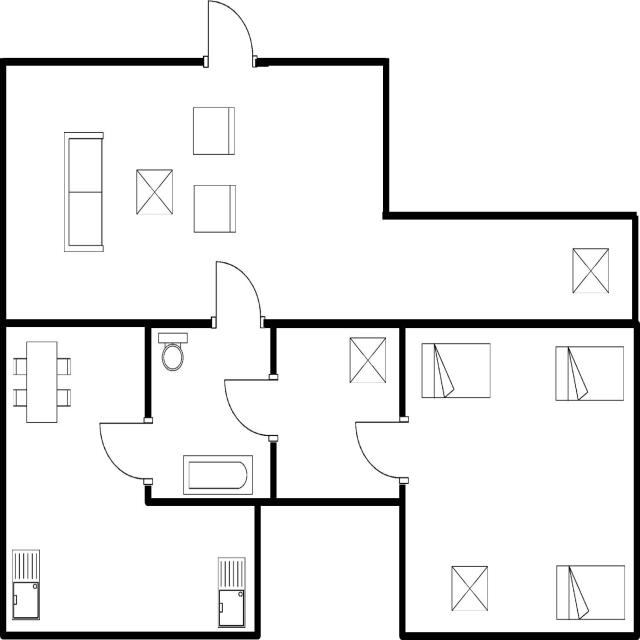bed: (416, 337, 496, 406), (552, 556, 629, 624), (550, 340, 628, 406)
coffee_table: (344, 332, 390, 390), (447, 560, 492, 617), (568, 243, 614, 298), (132, 164, 177, 220)
dining_table: (11, 337, 74, 427)
large_sink: (155, 329, 193, 376)
large_sofa: (60, 130, 106, 258)
sink: (8, 544, 44, 624), (214, 552, 250, 632)
small_sofa: (188, 179, 240, 238), (187, 100, 238, 160)
tub: (180, 449, 258, 495)
